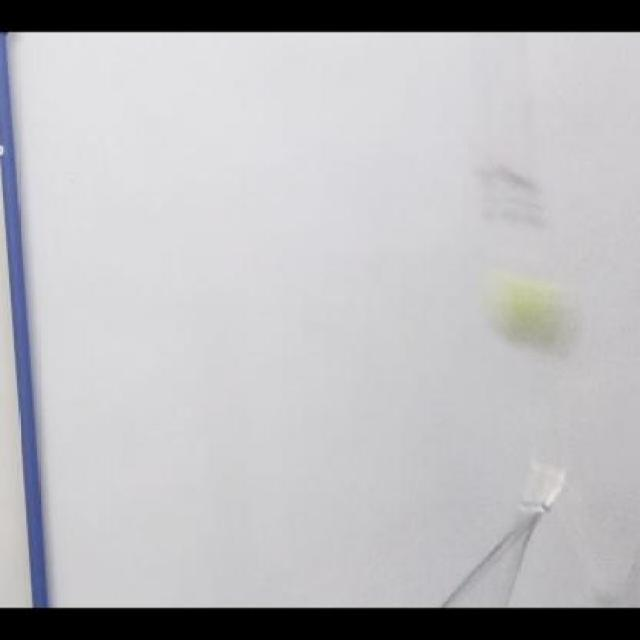baseball: (482, 267, 588, 361)
